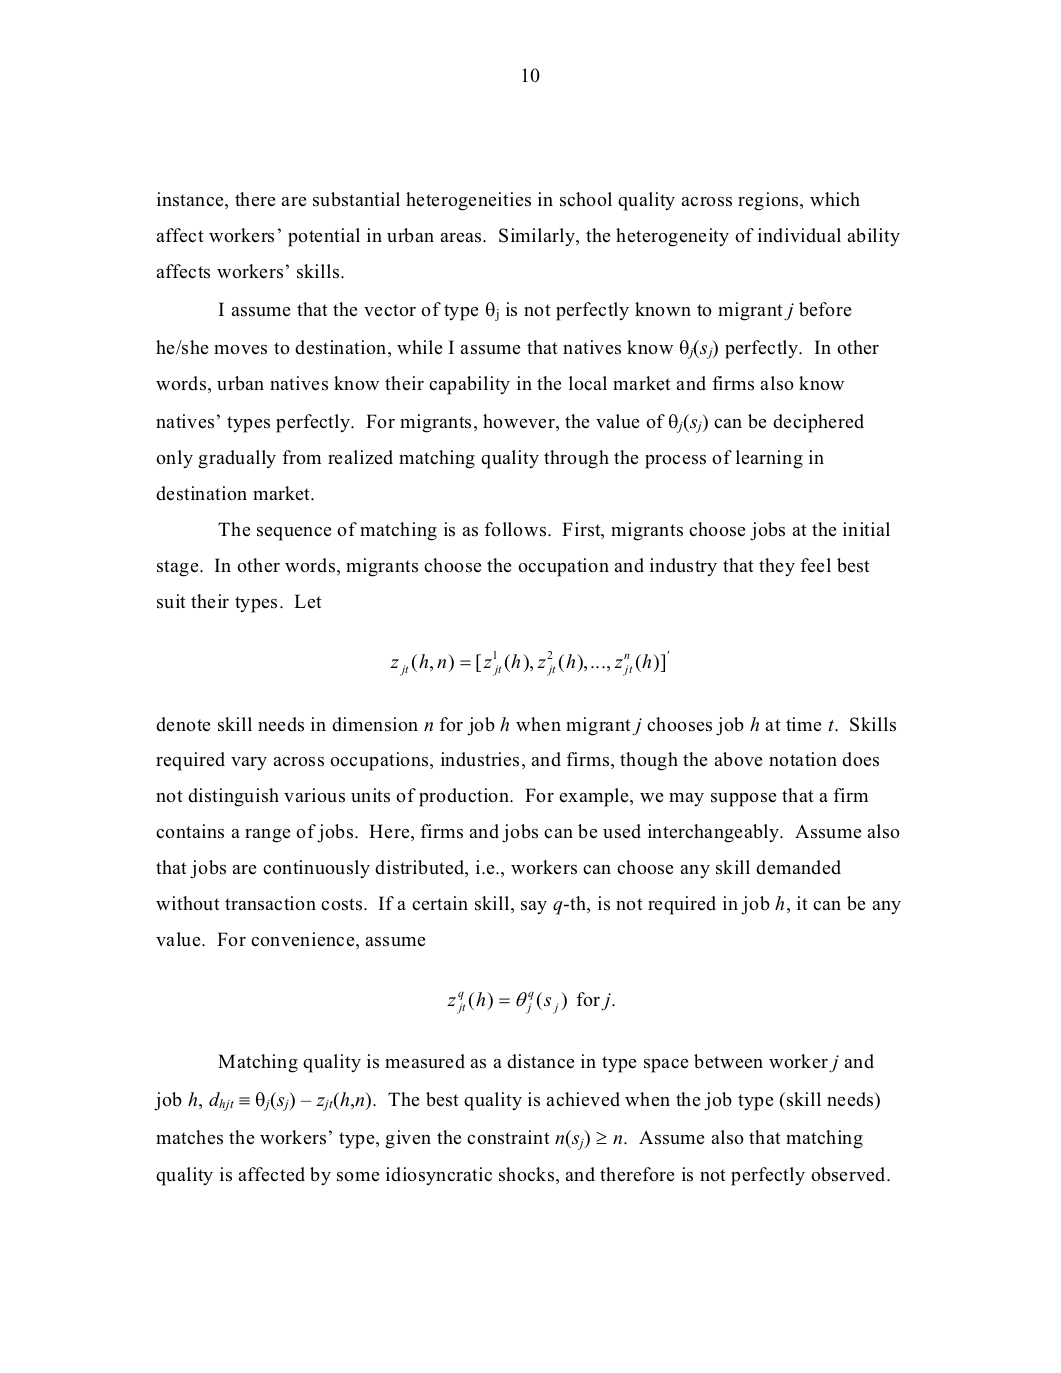formula: (390, 650, 669, 676), (447, 990, 614, 1014)
